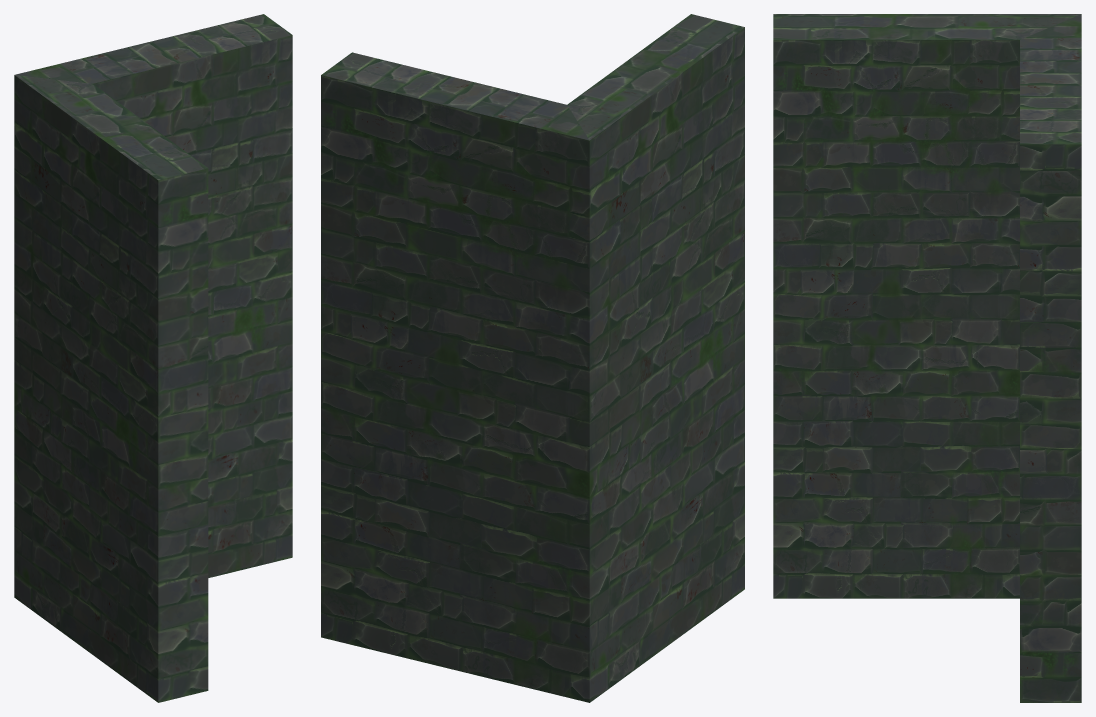
File: innerCorner.fbx
3 renders of one model, left to right at view 1: azimuth 30°, elevation 25°; view 2: azimuth 150°, elevation 25°; view 3: azimuth 270°, elevation 25°, orthographic. The views are drawn at different scales.
Visible parts, largest first — view 1: innerCorner; view 2: innerCorner; view 3: innerCorner.
Boxes of the visible parts, x1=… form: innerCorner: x1=14, y1=14, x2=292, y2=702; innerCorner: x1=321, y1=14, x2=744, y2=702; innerCorner: x1=773, y1=14, x2=1081, y2=702.
Size of the model in its own units: 200 by 400 by 200.
Materials: 1 (1 with a texture image).
